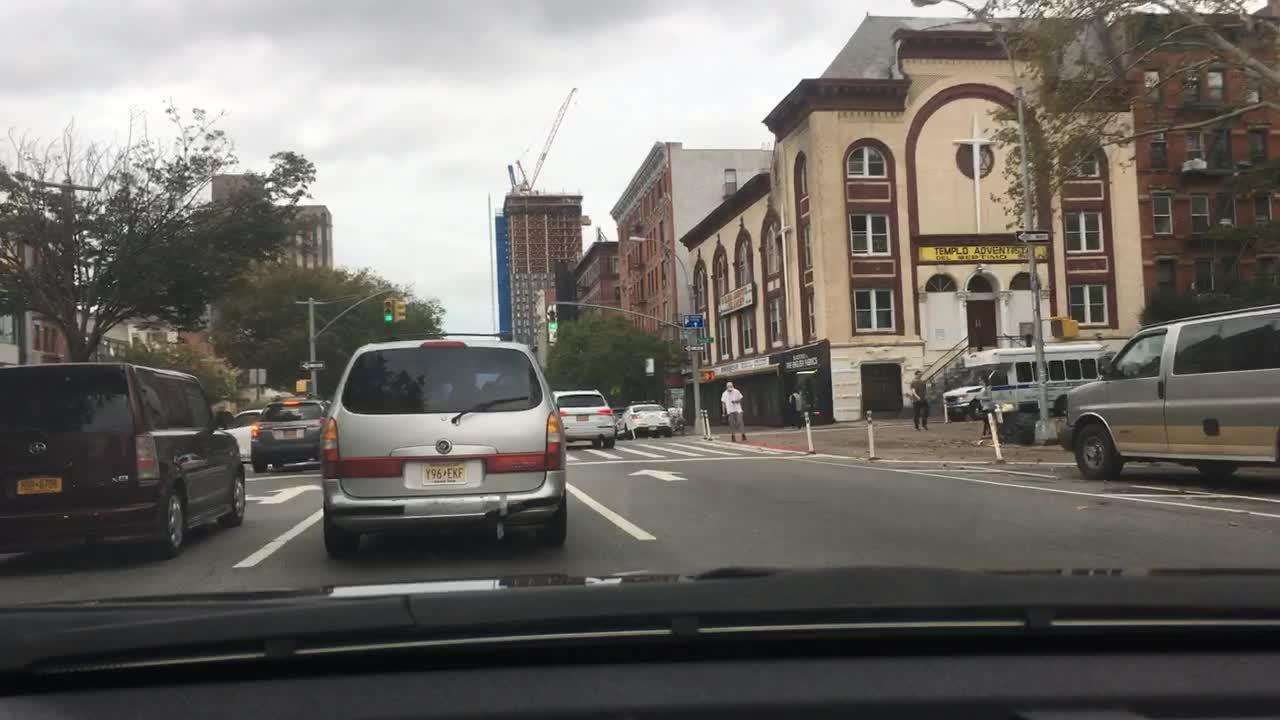Mercury: (433, 434, 456, 458)
Toyota: (27, 440, 51, 458)
